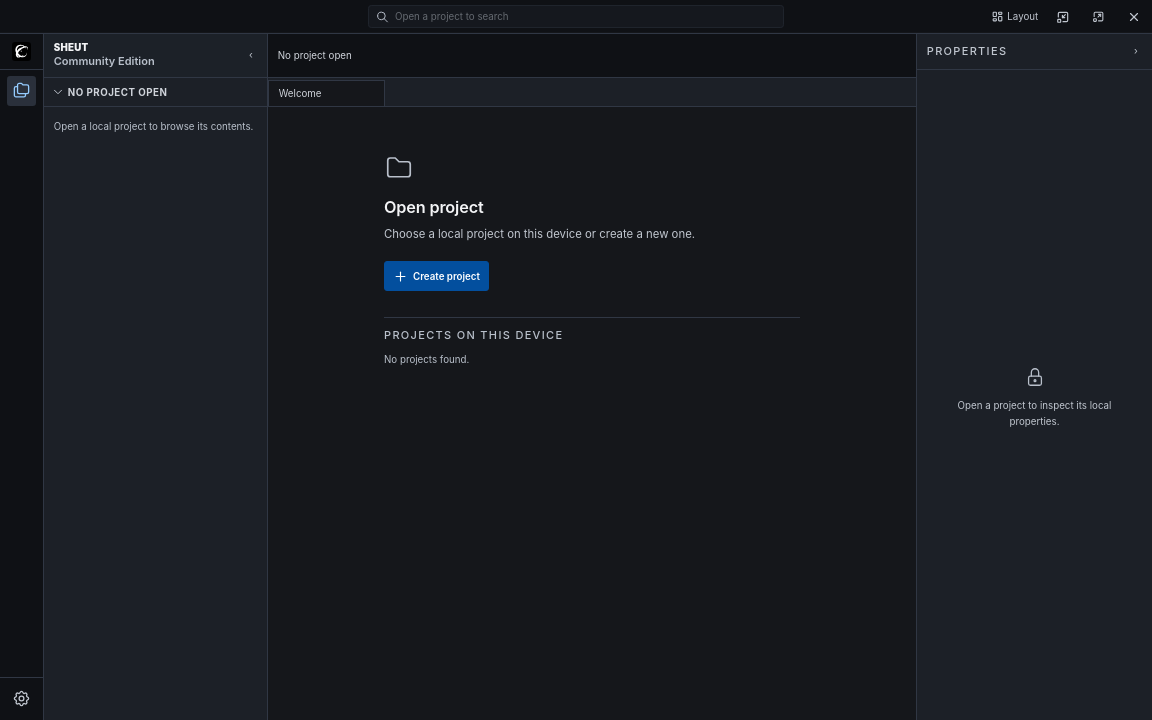
Test: App › opens application settings from the activity rail
This screenshot has width=1152, height=720.
Click the button named "Settings" at (22, 699), box [7,684,36,714]
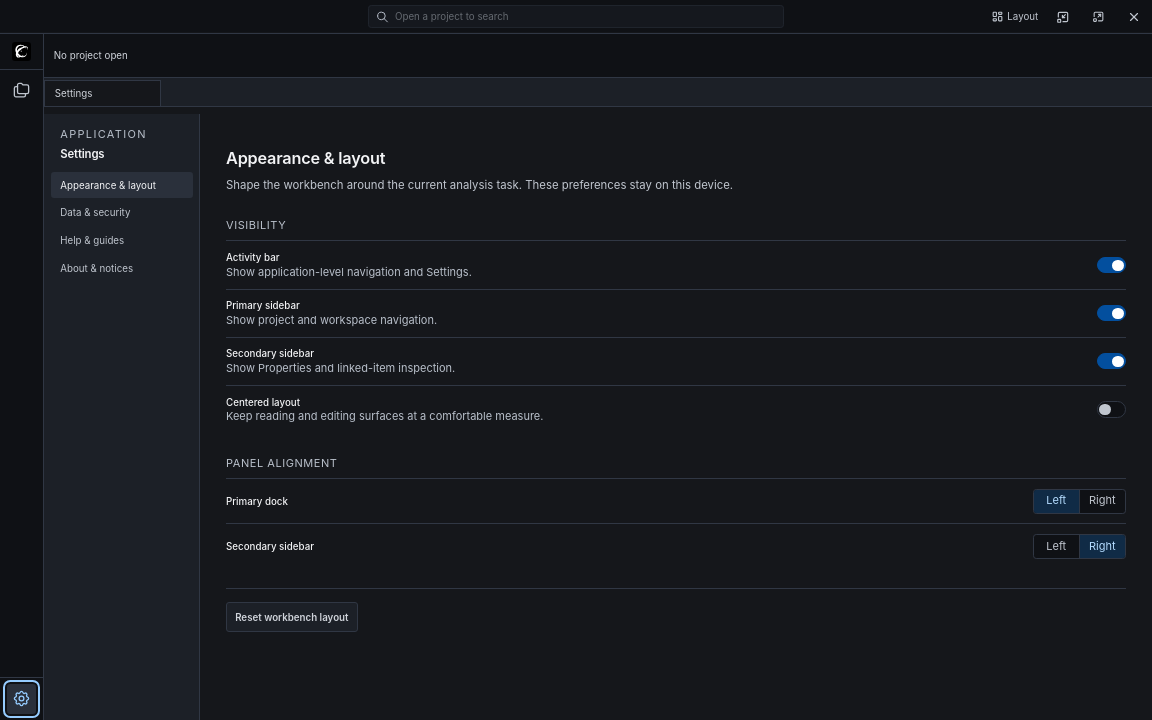
Now the heading "Appearance & layout" is shown, box [226,148,385,168]
Now the tab "About & notices" is shown, box [50,255,192,281]
